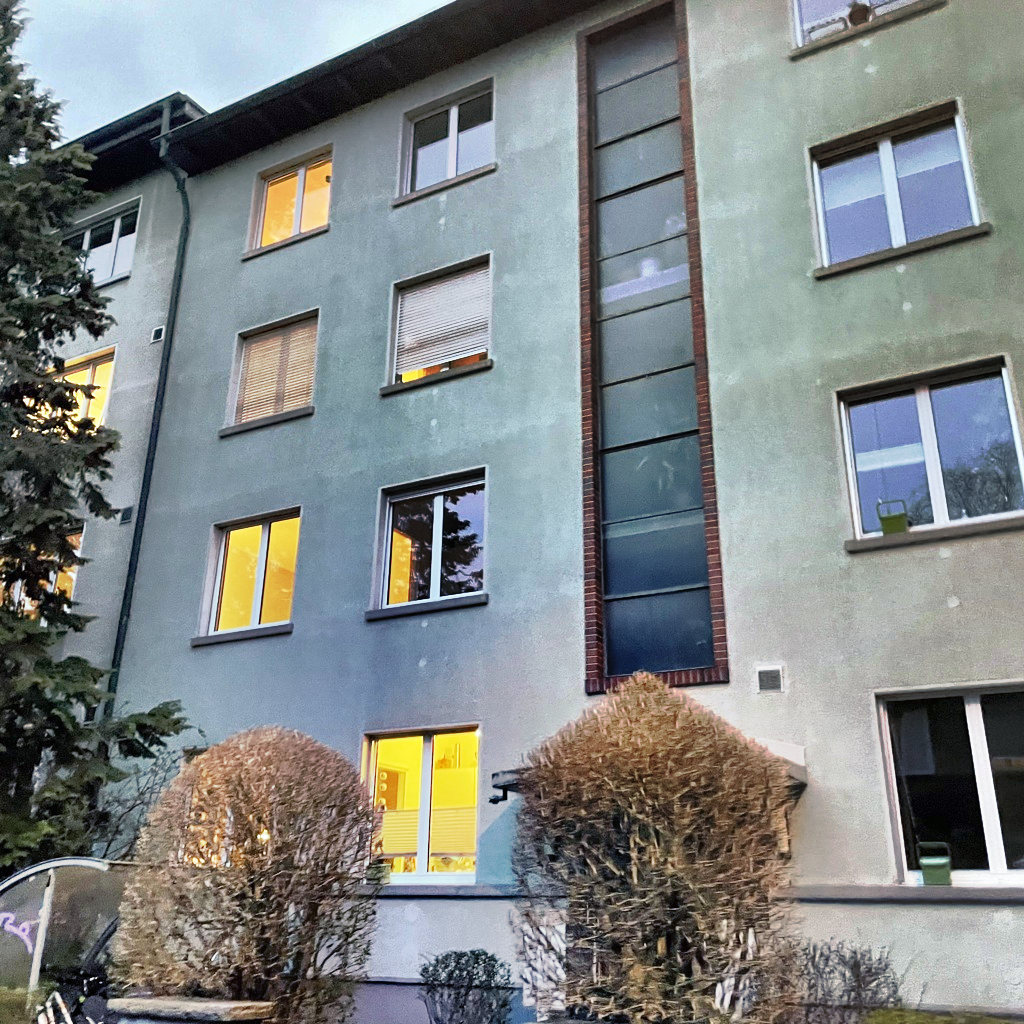glass panel: (888, 697, 987, 869), (931, 376, 1023, 519), (849, 393, 933, 531), (893, 124, 972, 241), (605, 589, 712, 674), (604, 510, 706, 595), (602, 435, 701, 520), (820, 149, 891, 262), (599, 299, 692, 382), (601, 366, 696, 446), (981, 692, 1023, 869), (598, 236, 689, 316), (598, 177, 685, 257), (591, 9, 676, 90), (429, 731, 477, 871), (373, 736, 422, 872), (596, 64, 678, 143), (595, 123, 681, 197), (387, 495, 433, 604), (215, 524, 262, 630), (440, 484, 483, 595), (259, 516, 299, 623), (456, 93, 495, 174), (410, 110, 448, 190), (260, 172, 297, 245), (300, 160, 331, 231), (86, 221, 115, 279), (112, 211, 136, 275)
